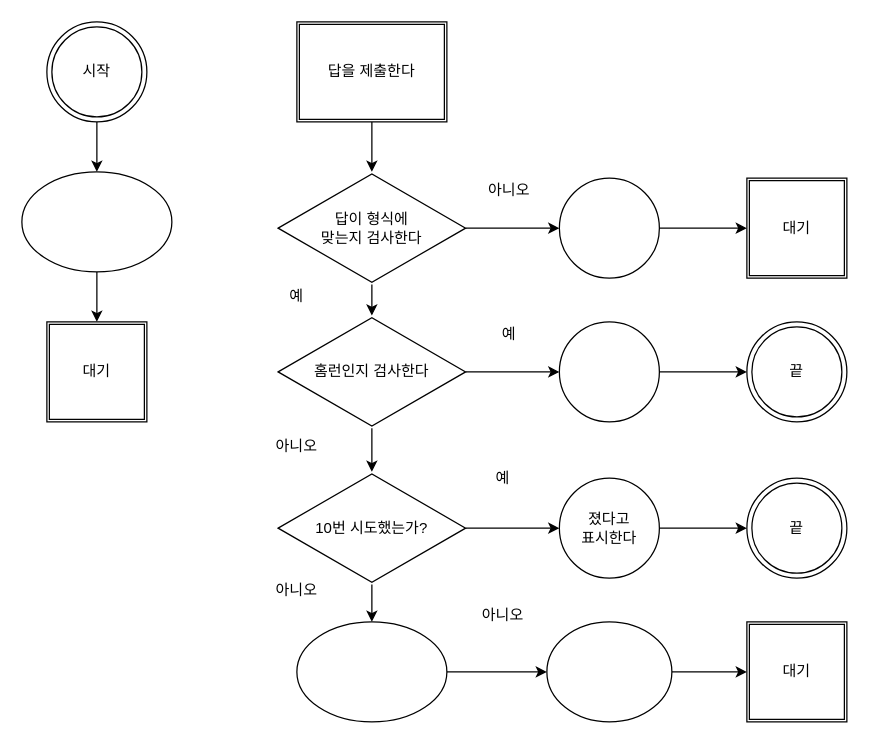
This 869x744 diagram has some shape labels left out. Each missing label, with the centre of its shape:
몇 볼 몇 스트라이크인지 표시한다.: (371,671)
숫자 네 개를 뽑는다: (96,221)
시도횟수를 1 늘린다.: (609,671)
에러를 표시한다.: (608,227)
홈런이라고 표시한다: (608,371)
